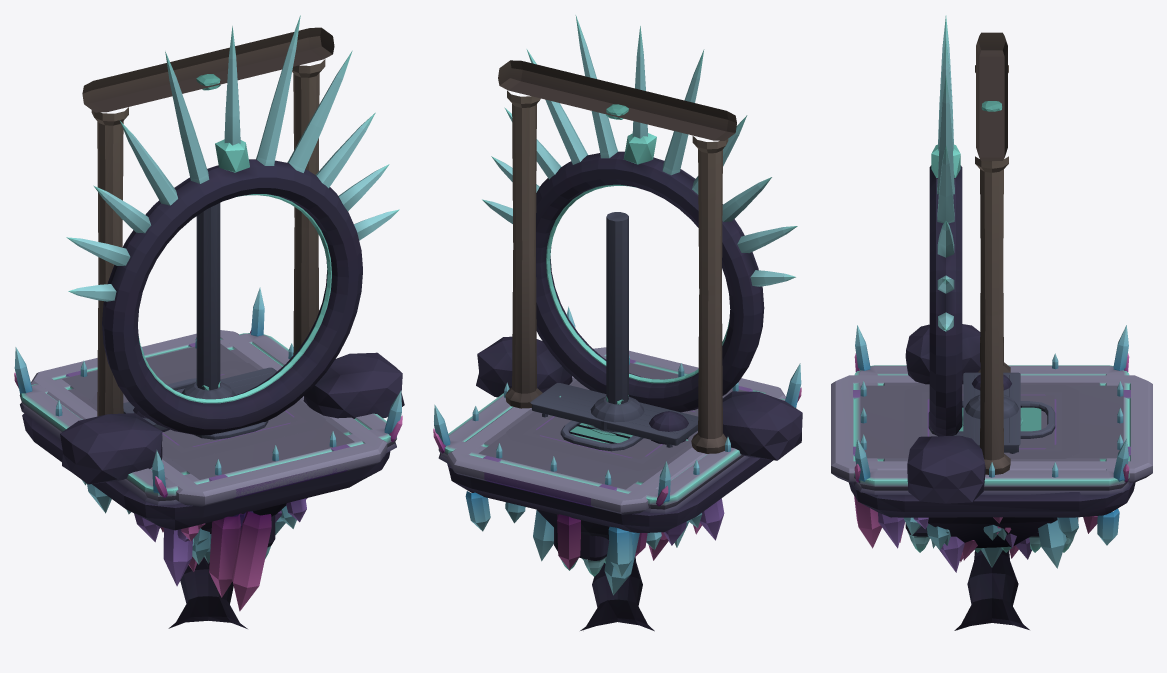
File: caverns-1-BqB7IYIb.glb
The picture shows the model from 3 angles, left to right: view 1: azimuth 30°, elevation 25°; view 2: azimuth 150°, elevation 25°; view 3: azimuth 270°, elevation 25°; orthographic projection. The views are drawn at different scales.
Parts seen in each view (by area): view 1: portal_#0, block_10x2x14#0, pressFrame_7.5x6x2.5x7#0, pad_12x2x12#0, press_2.5x6x7.5#0, hover_8x1.5x8#0, block_7x2x14_ice#0, support_1_round#0, block_8x2x8#0, burner_7x1.2x2#0, jetVent_3x5#0, barHub_6.3x1.2#0; view 2: portal_#0, pressFrame_7.5x6x2.5x7#0, block_10x2x14#0, pad_12x2x12#0, press_2.5x6x7.5#0, burner_7x1.2x2#0, hover_8x1.5x8#0, support_1_round#0, block_7x2x14_ice#0, jetVent_3x5#0, barHub_6.3x1.2#0, block_8x2x8#0 (+1 smaller); view 3: block_10x2x14#0, portal_#0, pad_12x2x12#0, pressFrame_7.5x6x2.5x7#0, hover_8x1.5x8#0, support_1_round#0, block_7x2x14_ice#0, burner_7x1.2x2#0, jetVent_3x5#0, press_2.5x6x7.5#0, barHub_6.3x1.2#0.
Boxes of the visible parts, box(x1,y1,x2,y2) form: portal_#0: box(60, 15, 404, 484); block_10x2x14#0: box(31, 330, 387, 611); pressFrame_7.5x6x2.5x7#0: box(82, 27, 334, 416); pad_12x2x12#0: box(14, 287, 402, 547); press_2.5x6x7.5#0: box(196, 203, 275, 558); hover_8x1.5x8#0: box(91, 361, 325, 460); block_7x2x14_ice#0: box(65, 343, 349, 597); support_1_round#0: box(168, 557, 247, 628); block_8x2x8#0: box(161, 510, 281, 586); burner_7x1.2x2#0: box(123, 367, 277, 430); jetVent_3x5#0: box(166, 378, 268, 439); barHub_6.3x1.2#0: box(181, 380, 235, 399); portal_#0: box(476, 15, 802, 460); pressFrame_7.5x6x2.5x7#0: box(498, 60, 736, 453); block_10x2x14#0: box(447, 347, 785, 595); pad_12x2x12#0: box(433, 306, 801, 556); press_2.5x6x7.5#0: box(554, 212, 628, 576); burner_7x1.2x2#0: box(530, 383, 698, 447); hover_8x1.5x8#0: box(506, 380, 698, 470); support_1_round#0: box(580, 557, 654, 631); block_7x2x14_ice#0: box(483, 359, 752, 561); jetVent_3x5#0: box(560, 420, 643, 451); barHub_6.3x1.2#0: box(587, 395, 644, 435); block_8x2x8#0: box(505, 498, 724, 540); block_10x2x14#0: box(831, 375, 1152, 548); portal_#0: box(905, 15, 985, 503); pad_12x2x12#0: box(848, 325, 1135, 540); pressFrame_7.5x6x2.5x7#0: box(975, 32, 1010, 474); hover_8x1.5x8#0: box(904, 385, 1079, 458); support_1_round#0: box(954, 550, 1029, 630); block_7x2x14_ice#0: box(853, 390, 1130, 572); burner_7x1.2x2#0: box(963, 372, 1020, 453); jetVent_3x5#0: box(928, 401, 1055, 438); press_2.5x6x7.5#0: box(905, 517, 1078, 552); barHub_6.3x1.2#0: box(962, 395, 1023, 425).
Size of the model in its own units: 16.02 by 29.01 by 14.
